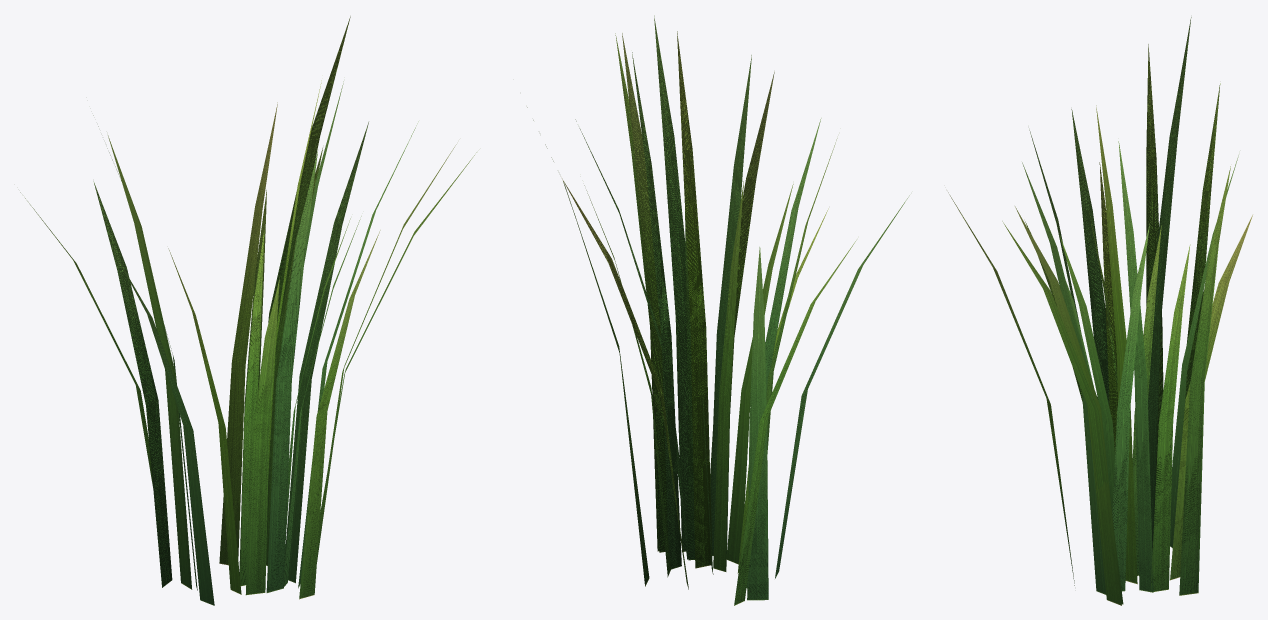
File: Grass_Tall_03.fbx
The picture shows the model from 3 angles, left to right: view 1: azimuth 30°, elevation 25°; view 2: azimuth 150°, elevation 25°; view 3: azimuth 270°, elevation 25°; orthographic projection. The views are drawn at different scales.
Parts seen in each view (by area): view 1: Grass_Tall_03; view 2: Grass_Tall_03; view 3: Grass_Tall_03.
Boxes of the visible parts, x1,y1,x2,y2 form: Grass_Tall_03: (20,16,476,605); Grass_Tall_03: (527,15,909,605); Grass_Tall_03: (948,17,1252,605).
Bounding box in the file's own units: 0.6457 × 0.8849 × 0.4981.
Materials: 1 (1 with a texture image).
